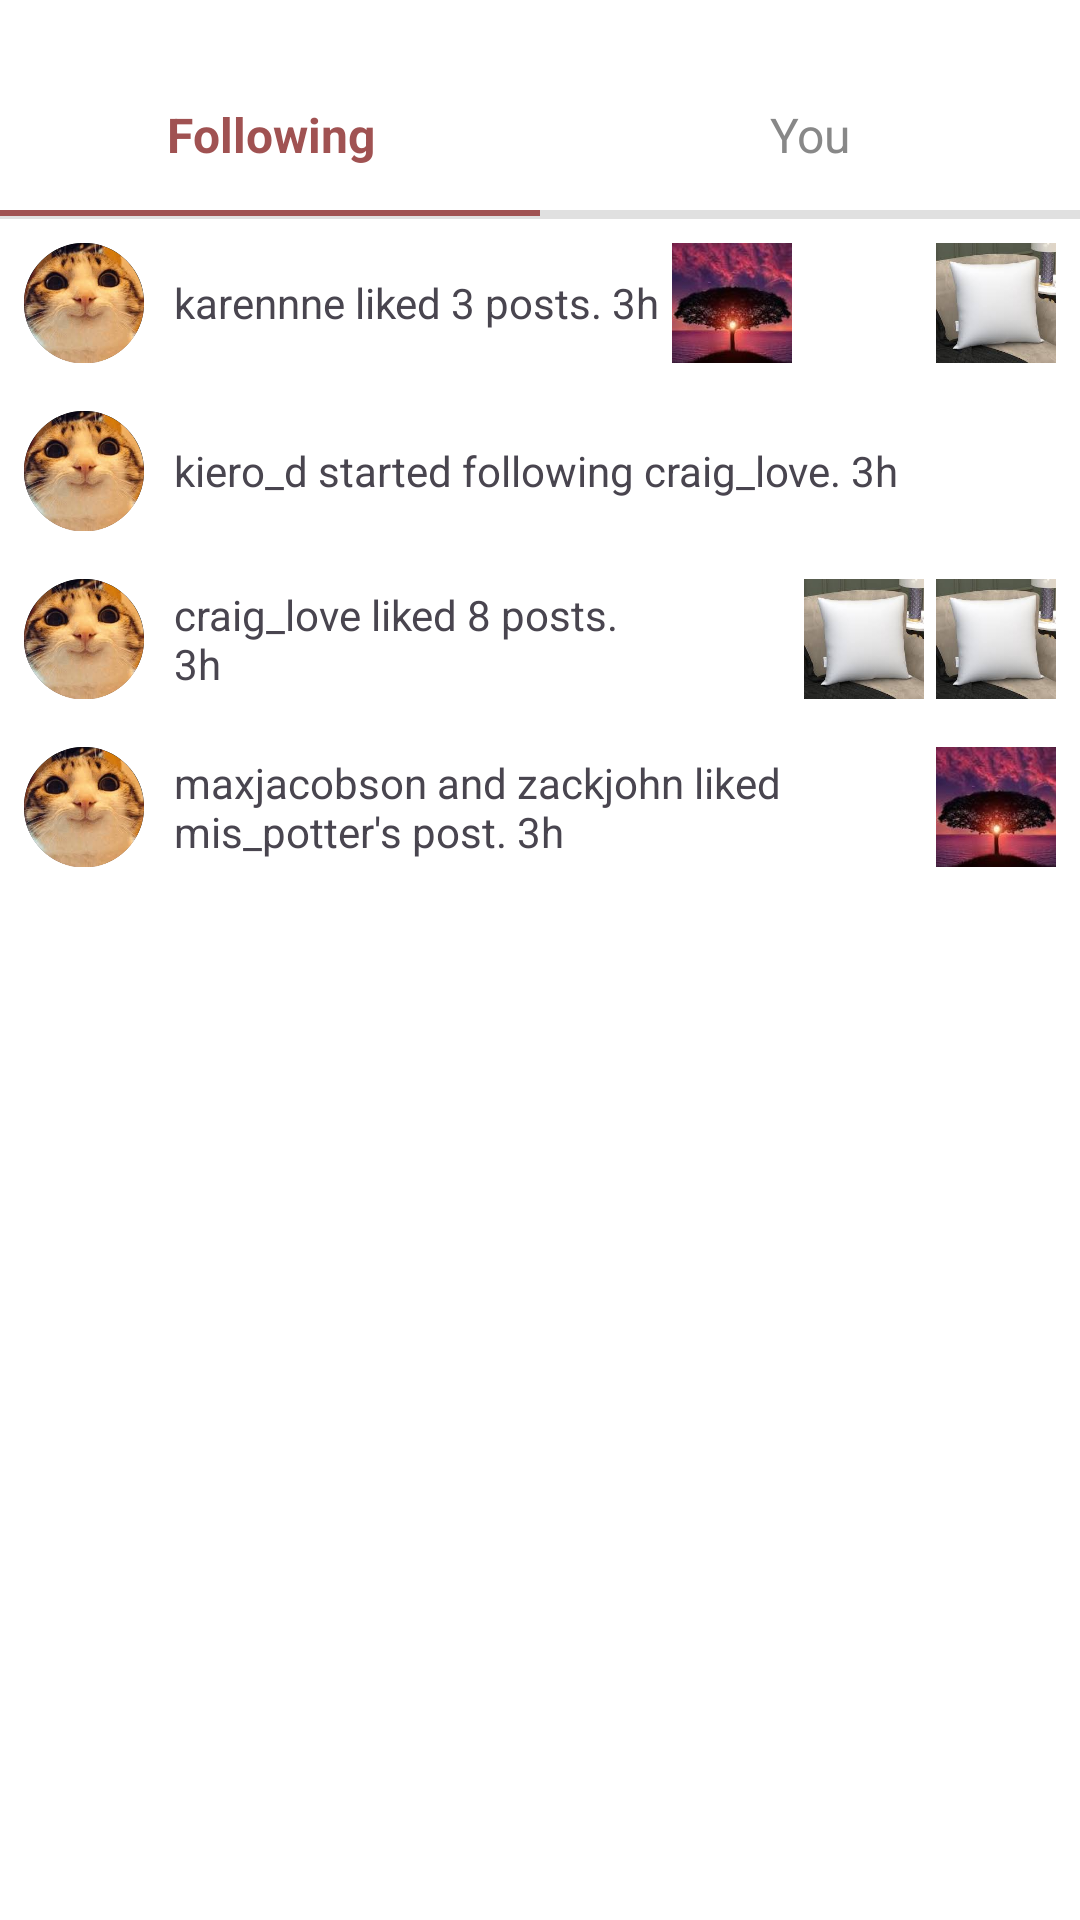

Where icons sit on this 1080px×1920px app screen, as (x1, y1, x2, y2):
profile circular: (24, 243, 144, 363), (24, 411, 144, 531), (24, 579, 144, 699), (24, 747, 144, 867)
